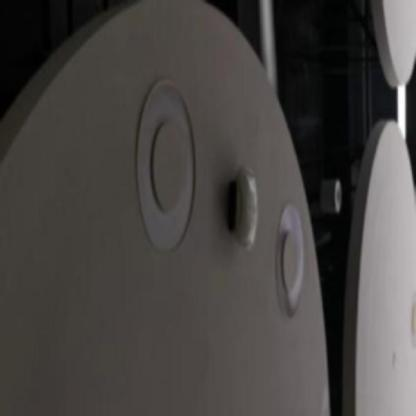light_off: (117, 46, 205, 273), (270, 172, 308, 330)
